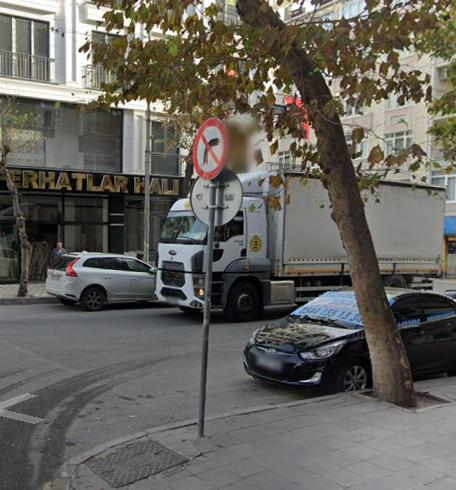rightturnsareforbidden: (194, 116, 227, 182)
